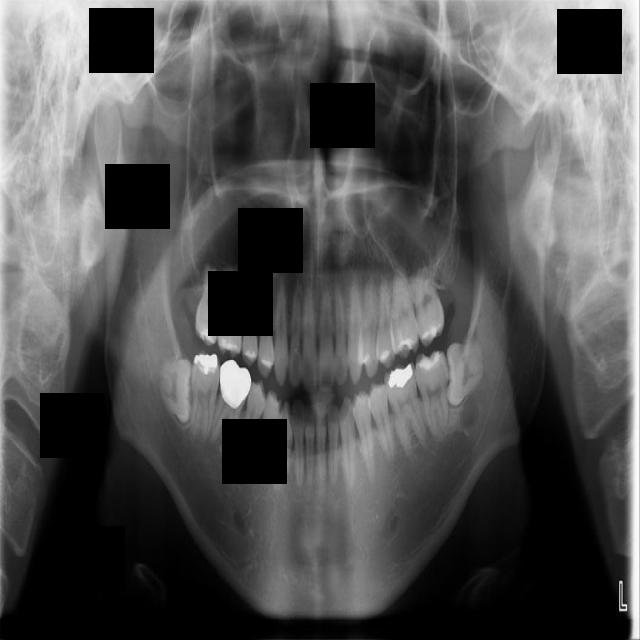52: (373, 357, 427, 408), (208, 356, 258, 409), (187, 349, 224, 397), (411, 348, 452, 391)
73: (600, 562, 606, 586)
BioHorizons Implant: (411, 259, 447, 348)
Biomet 3i Implant: (446, 339, 484, 406)
Blue Sky Bio Implant: (412, 348, 458, 438)
Caries: (194, 263, 222, 347)
Implant: (185, 349, 223, 440)
Keystone Dental Implant: (160, 358, 193, 422)
